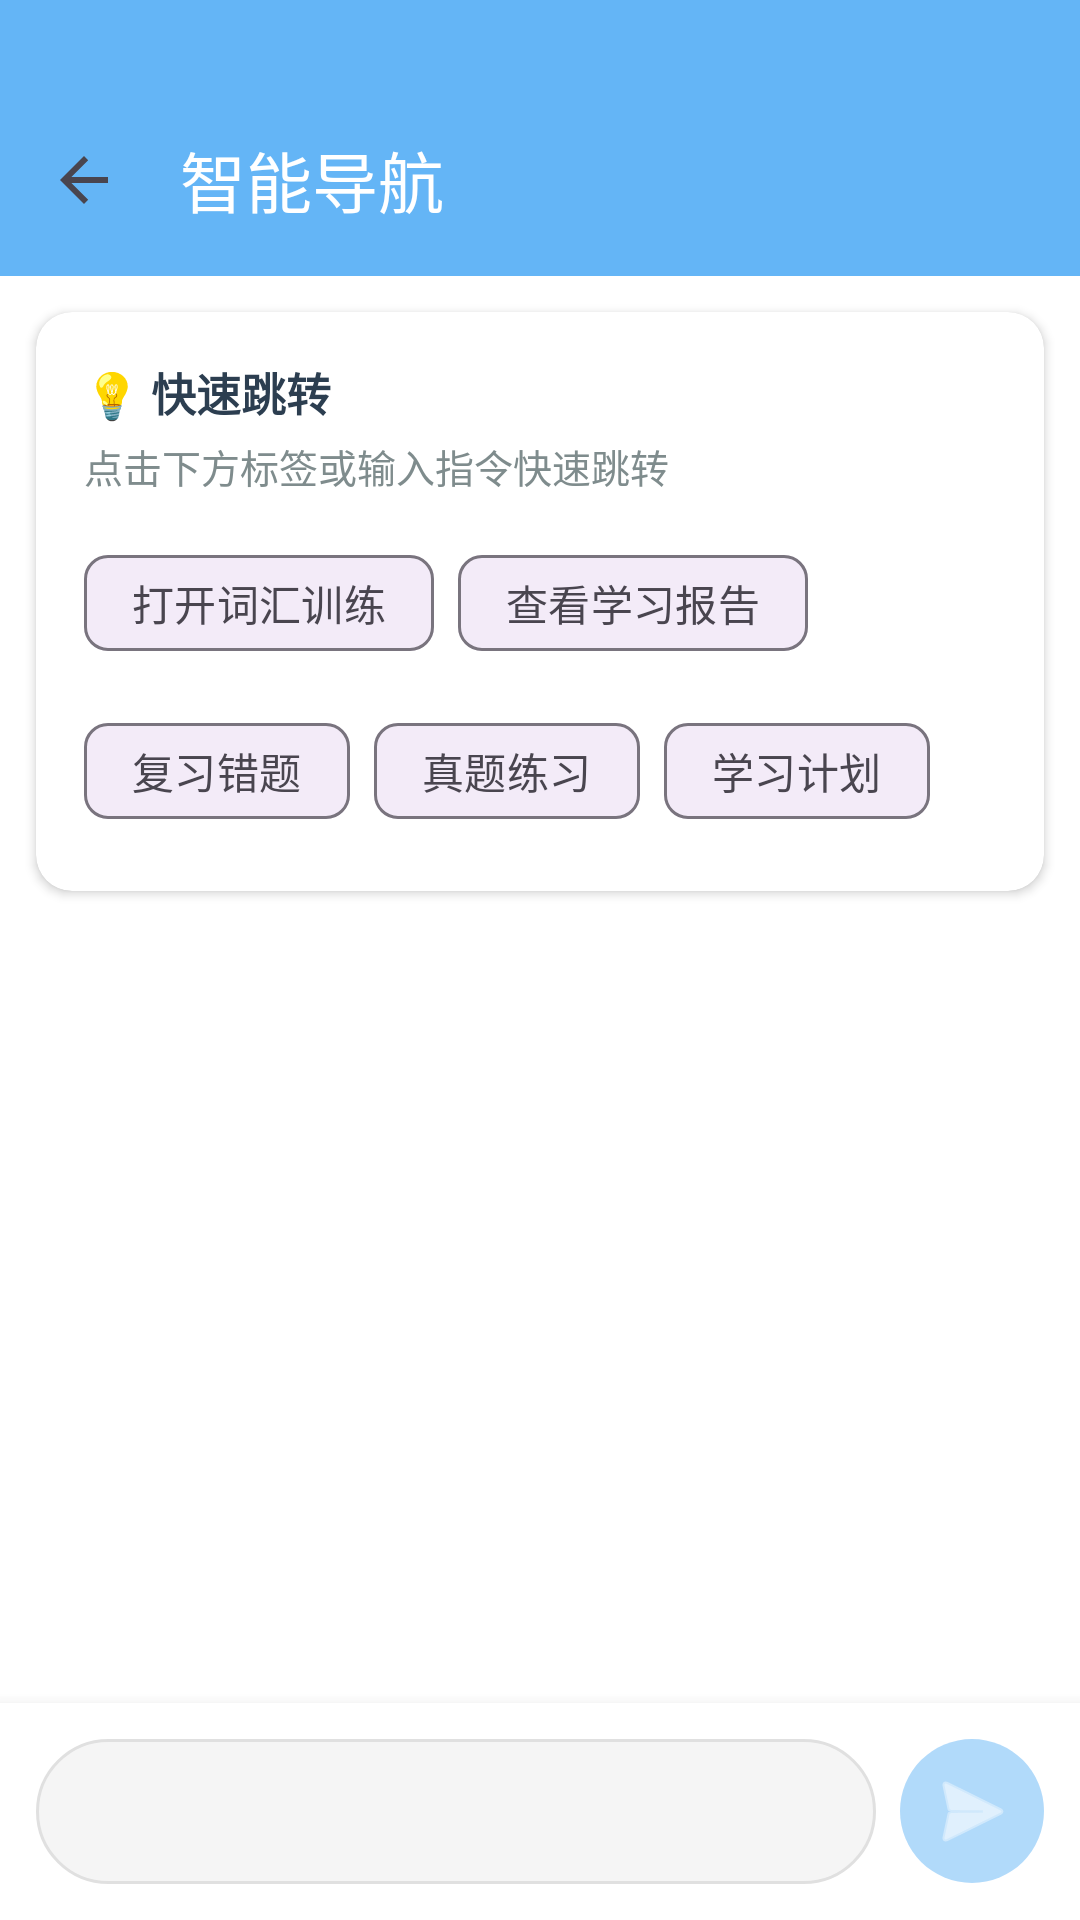

Screen size 1080x1920. Icon name, then its box in pixels as (x1, y1, x2, y2):
执行: (900, 1739, 1044, 1883)
